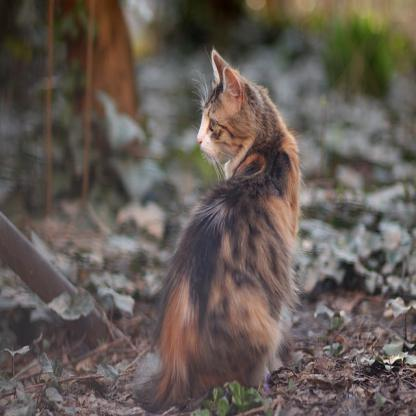cat: (135, 47, 302, 415)
